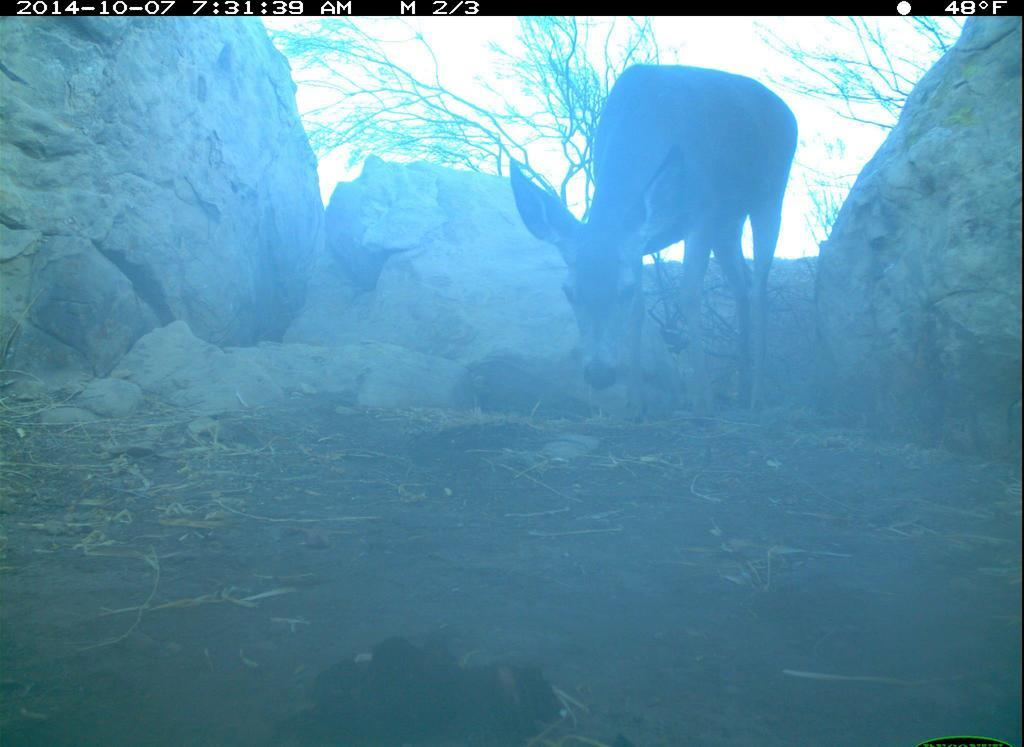deer: (505, 50, 834, 442)
